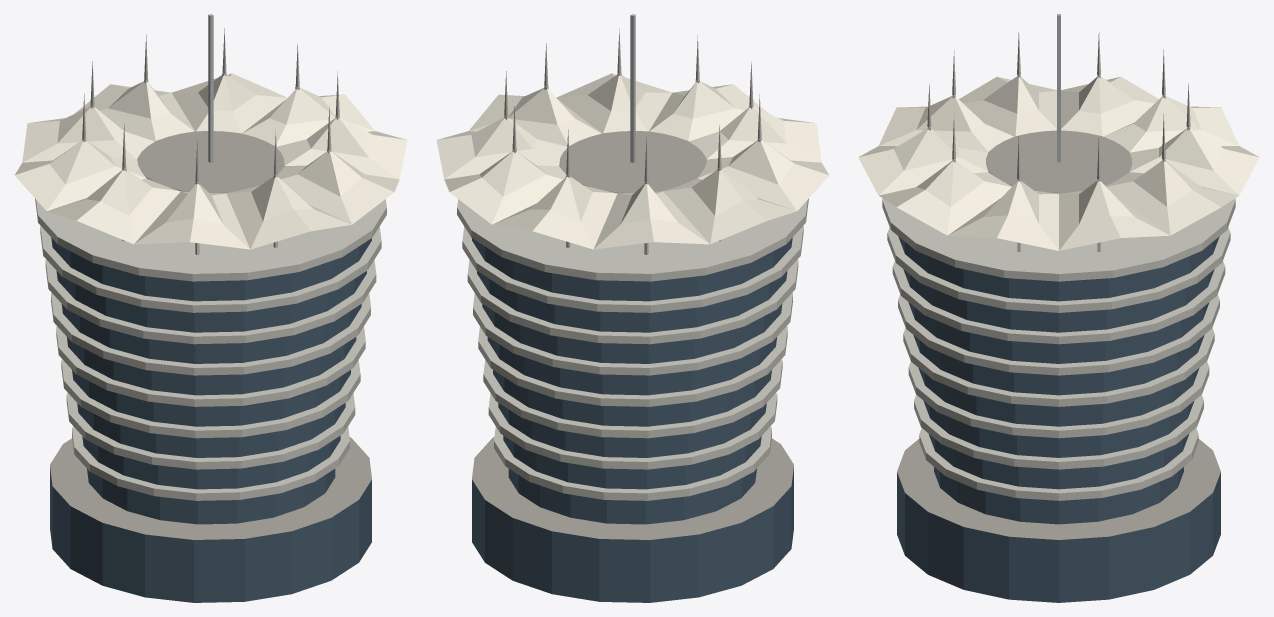
The model's file is sakhir_tower.glb.
The picture shows the model from 3 angles, left to right: view 1: azimuth 30°, elevation 25°; view 2: azimuth 150°, elevation 25°; view 3: azimuth 270°, elevation 25°; orthographic projection.
Visible parts, largest first — view 1: chunk_0_0; view 2: chunk_0_0; view 3: chunk_0_0.
Part boxes in pixels (x1=…): chunk_0_0: x1=14, y1=14, x2=407, y2=602; chunk_0_0: x1=436, y1=14, x2=829, y2=602; chunk_0_0: x1=858, y1=14, x2=1259, y2=602.
Size of the model in its own units: 41.28 by 61.95 by 43.4.
